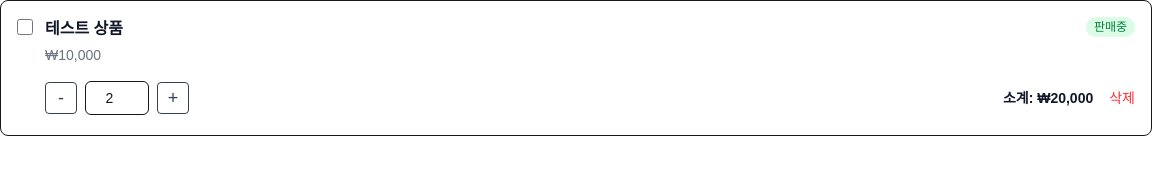
Test case: CartItemRow › 0 이하 입력 시 에러 메시지가 표시되고 1로 클램프된다
Replace the text in the number field named "수량" with "0" at [117, 98], box [85, 81, 149, 115]
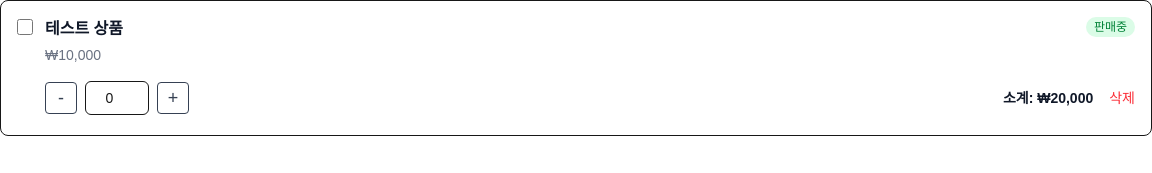
Leave the number field named "수량", box [85, 81, 149, 115]
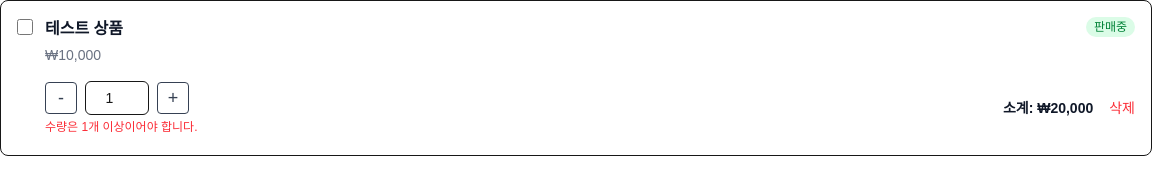
Check: the text "수량은 1개 이상이어야 합니다." is shown, box [45, 119, 198, 135]
Check: the number field named "수량" holds "1", box [85, 81, 149, 115]
